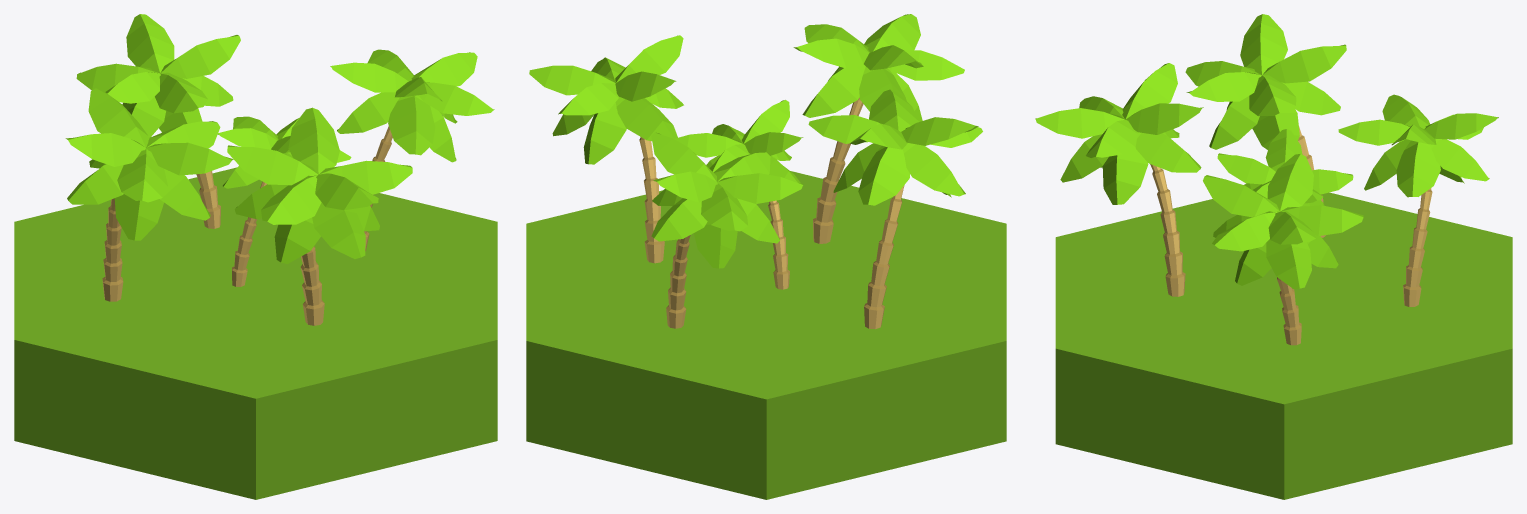
Rendered from Palmeras.fbx.
3 renders of one model, left to right at view 1: azimuth 30°, elevation 25°; view 2: azimuth 150°, elevation 25°; view 3: azimuth 270°, elevation 25°, orthographic. The views are drawn at different scales.
Visible parts, largest first — view 1: Palmeras; view 2: Palmeras; view 3: Palmeras.
Part boxes in pixels (x1,y1,x2,y2): Palmeras: (14, 14, 497, 499); Palmeras: (526, 14, 1006, 499); Palmeras: (1035, 14, 1512, 499).
Size of the model in its own units: 200 by 120 by 181.
